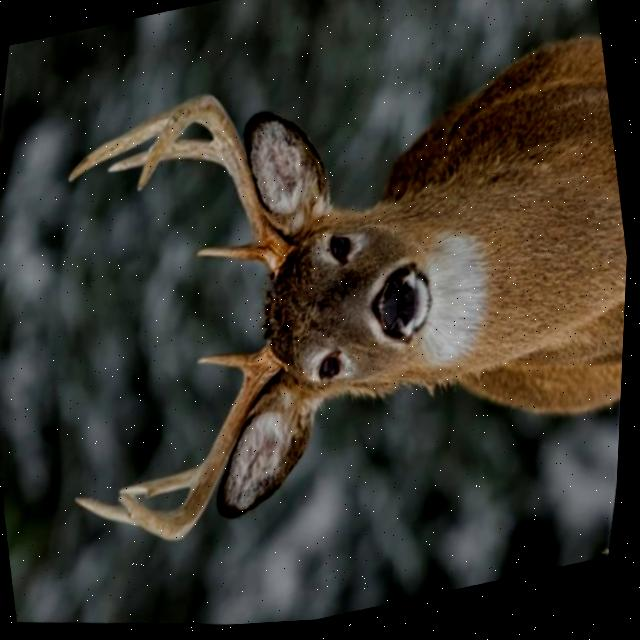L-F: (138, 97, 291, 273)
L-G1: (197, 246, 265, 265)
R-F: (121, 350, 285, 545)
R-G1: (200, 356, 254, 373)
R-G2: (124, 467, 206, 499)
